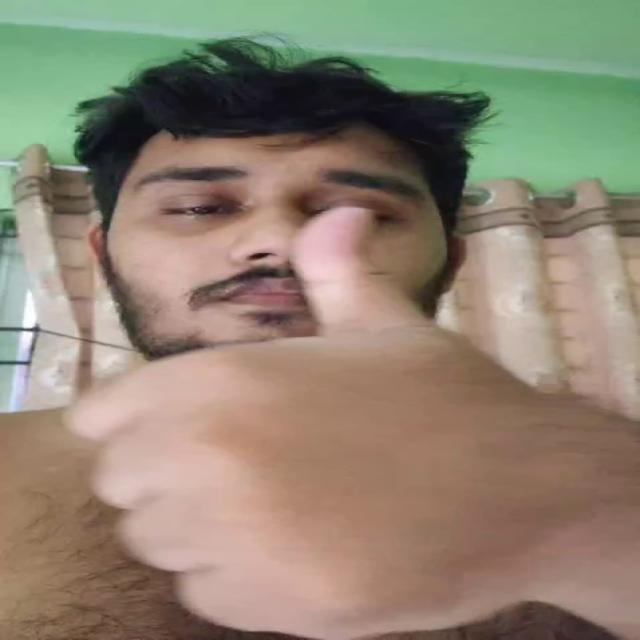Yes: (83, 205, 554, 640)
